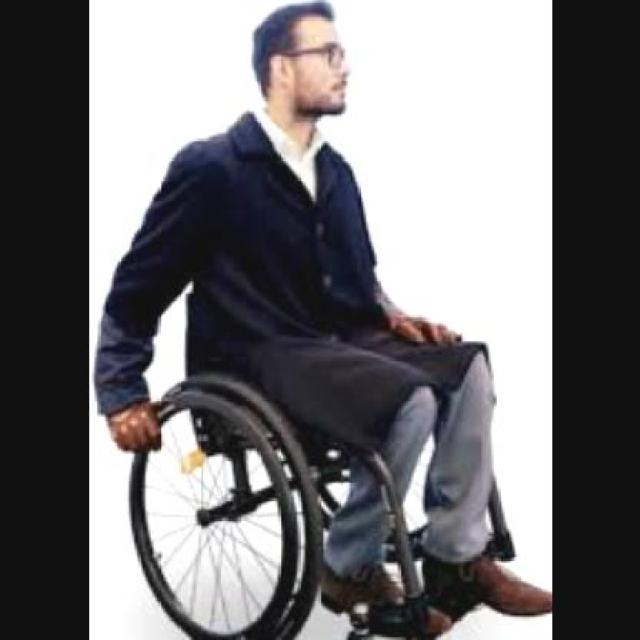wheelchairs: (116, 269, 512, 640)
